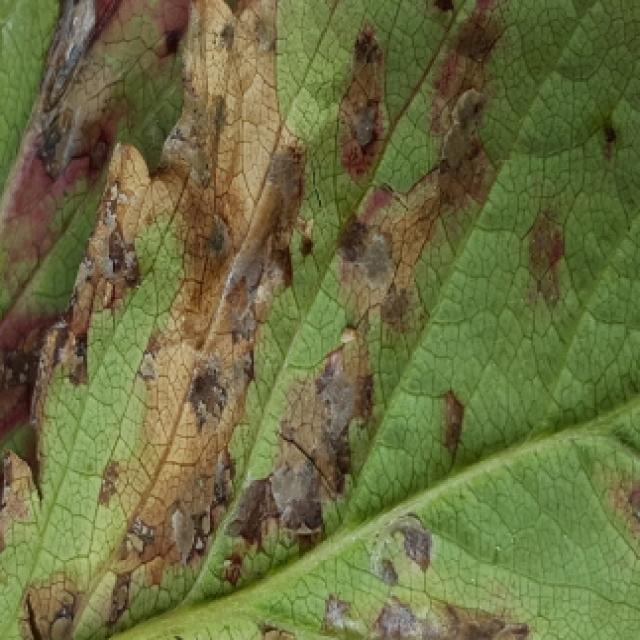Angular Leafspot: (0, 0, 640, 640)
